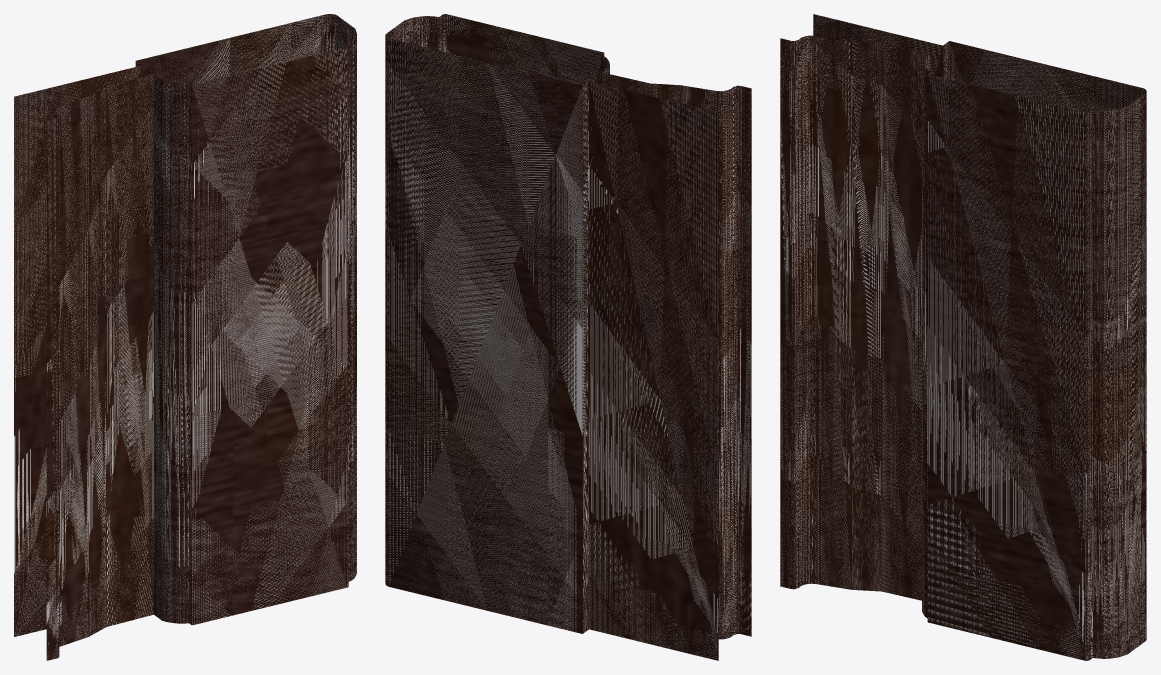
The model's file is original-28.obj.
The picture shows the model from 3 angles, left to right: view 1: azimuth 30°, elevation 25°; view 2: azimuth 150°, elevation 25°; view 3: azimuth 330°, elevation 25°; orthographic projection.
Visible parts, largest first — view 1: RB_31_BC1/RB_31_BC/mesh17/mesh17-geometry#mesh17-geometry; view 2: RB_31_BC1/RB_31_BC/mesh17/mesh17-geometry#mesh17-geometry; view 3: RB_31_BC1/RB_31_BC/mesh17/mesh17-geometry#mesh17-geometry.
Boxes of the visible parts, bbox=[...] form: RB_31_BC1/RB_31_BC/mesh17/mesh17-geometry#mesh17-geometry: bbox=[14, 14, 356, 660]; RB_31_BC1/RB_31_BC/mesh17/mesh17-geometry#mesh17-geometry: bbox=[385, 14, 751, 660]; RB_31_BC1/RB_31_BC/mesh17/mesh17-geometry#mesh17-geometry: bbox=[780, 14, 1146, 660].
Bounding box in the file's own units: 0.1793 × 0.2844 × 0.0371.
